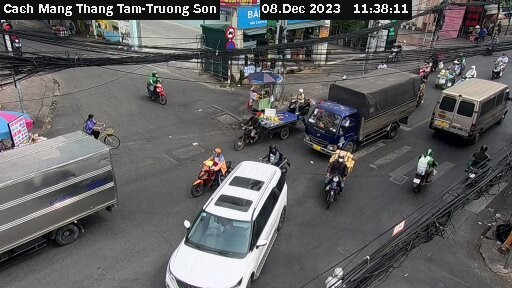car: (163, 156, 294, 288), (428, 69, 511, 148)
motorbike: (178, 147, 231, 191), (317, 152, 359, 202), (463, 144, 504, 193), (408, 148, 447, 194), (255, 140, 301, 178), (138, 70, 177, 107), (230, 115, 265, 154), (283, 92, 317, 116), (490, 52, 512, 80), (449, 54, 471, 74), (467, 64, 483, 84)
truck: (1, 116, 119, 271), (303, 68, 422, 158)
